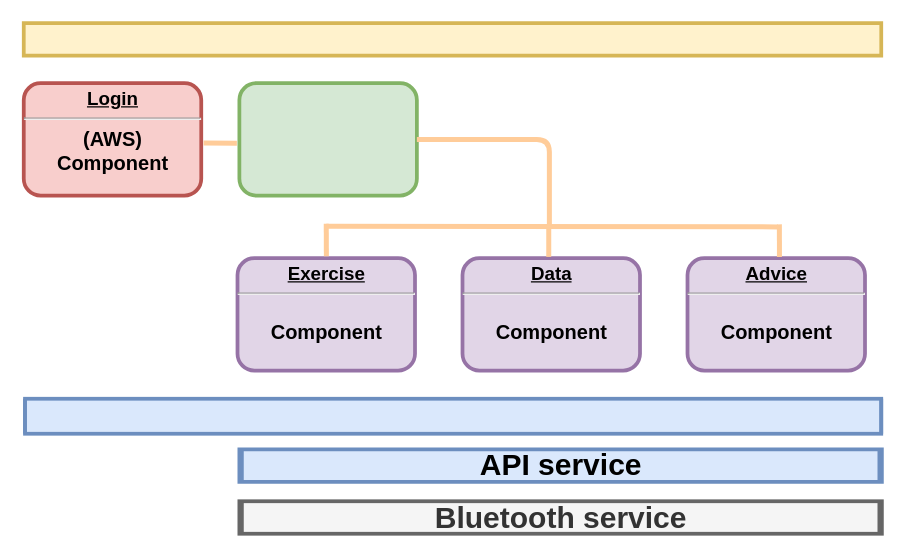
The diagram is 905 pixels wide and 558 high, and some of its shapes have lost their labels. Each missing label, with the centre of its shape:
"App Module / Router" goes at (451,39).
"AuthGuard" goes at (452,415).
"Menu Component" goes at (327,139).
